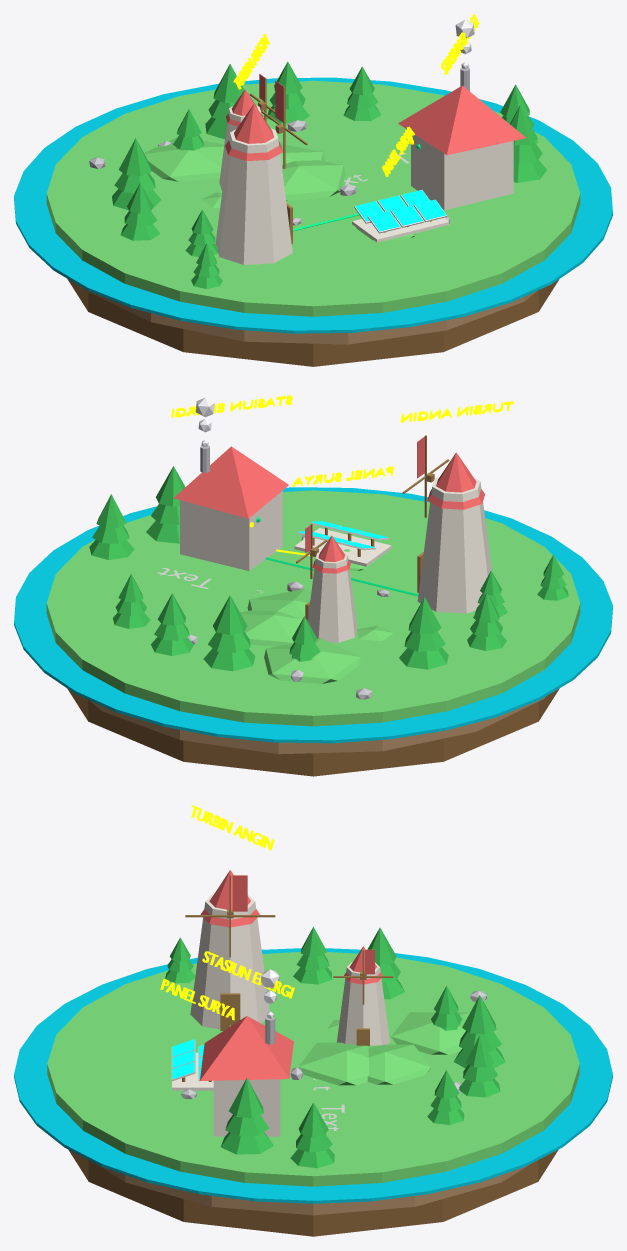
The model's file is EBT.glb.
The picture shows the model from 3 angles, top to bottom: view 1: azimuth 30°, elevation 25°; view 2: azimuth 150°, elevation 25°; view 3: azimuth 270°, elevation 25°; orthographic projection.
Visible parts, largest first — view 1: Cylinder.001, Cylinder, Cylinder.003, Cone.030, Cube.020, Cone.034, Cylinder.002, Icosphere.001, Icosphere.002, Cone.031, Cube.022, Cone.002 (+12 smaller); view 2: Cylinder.001, Cylinder, Cylinder.003, Cone.030, Cube.020, Cone.034, Cylinder.002, Cone.032, Icosphere.001, Icosphere.004, Cone.031, Icosphere.002 (+19 smaller); view 3: Cylinder.001, Cylinder, Cylinder.003, Cone.030, Cone.034, Cylinder.002, Cone.032, Icosphere.002, Cube.020, Icosphere.001, Icosphere.004, Cone.031 (+13 smaller).
Part boxes in pixels (<box>): Cylinder.001: <box>46,80,580,316</box>; Cylinder: <box>14,77,612,333</box>; Cylinder.003: <box>67,279,559,366</box>; Cone.030: <box>215,128,292,264</box>; Cube.020: <box>411,135,513,210</box>; Cone.034: <box>398,85,526,155</box>; Cylinder.002: <box>80,286,536,344</box>; Icosphere.001: <box>144,137,224,181</box>; Icosphere.002: <box>281,160,345,200</box>; Cone.031: <box>225,104,282,161</box>; Cube.022: <box>352,211,449,242</box>; Cone.002: <box>118,138,151,175</box>; Cylinder.001: <box>46,490,580,726</box>; Cylinder: <box>14,487,612,743</box>; Cylinder.003: <box>68,688,559,776</box>; Cone.030: <box>417,477,491,613</box>; Cube.020: <box>180,491,282,570</box>; Cone.034: <box>173,446,288,518</box>; Cylinder.002: <box>90,696,546,754</box>; Cone.032: <box>307,552,357,642</box>; Icosphere.001: <box>264,638,360,683</box>; Icosphere.004: <box>240,610,302,646</box>; Cone.031: <box>427,452,485,509</box>; Icosphere.002: <box>247,589,311,619</box>; Cylinder.001: <box>47,952,579,1186</box>; Cylinder: <box>14,948,612,1203</box>; Cylinder.003: <box>68,1149,558,1236</box>; Cone.030: <box>190,893,269,1029</box>; Cone.034: <box>200,1016,293,1080</box>; Cylinder.002: <box>97,1164,529,1215</box>; Cone.032: <box>337,962,389,1045</box>; Icosphere.002: <box>298,1042,375,1085</box>; Cube.020: <box>213,1079,280,1136</box>; Icosphere.001: <box>391,1012,469,1054</box>; Icosphere.004: <box>367,1044,430,1084</box>; Cone.031: <box>200,870,259,927</box>.
Size of the model in its own units: 18 by 8.43 by 18.
